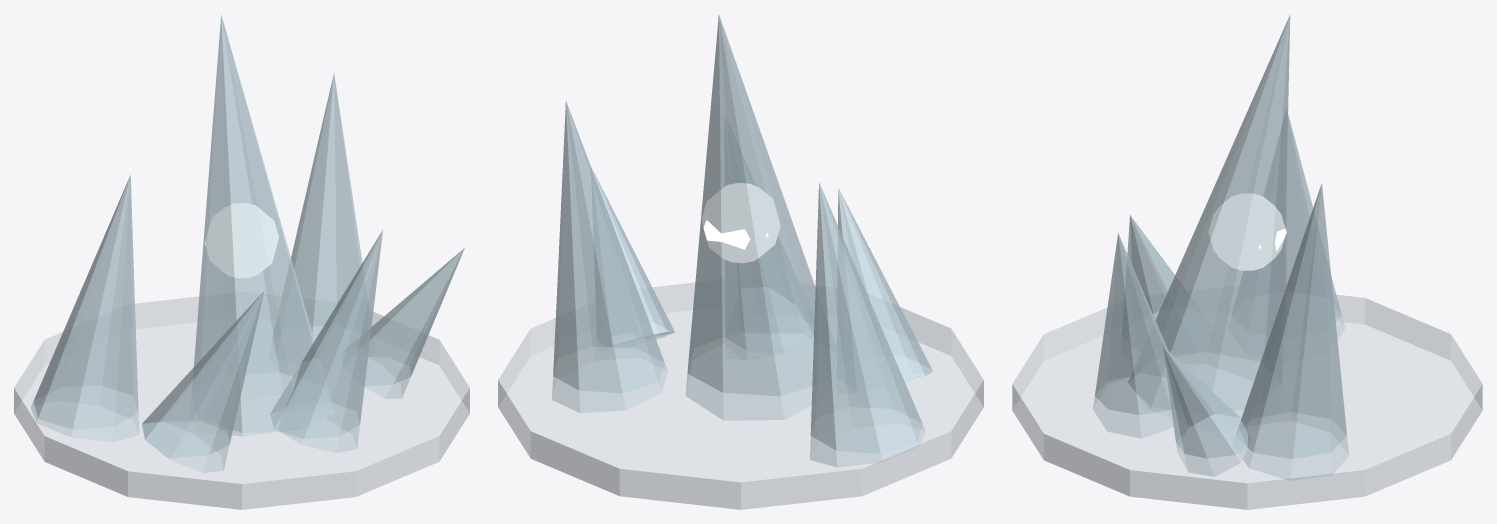
File: freeze.glb
The picture shows the model from 3 angles, left to right: view 1: azimuth 30°, elevation 25°; view 2: azimuth 150°, elevation 25°; view 3: azimuth 270°, elevation 25°; orthographic projection. The views are drawn at different scales.
Visible parts, largest first — view 1: freeze; view 2: freeze; view 3: freeze.
Part boxes in pixels (box(x1,y1,x2,y2)): freeze: box(14, 15, 469, 509); freeze: box(498, 15, 983, 509); freeze: box(1012, 14, 1482, 509).
Bounding box in the file's own units: 2.4 × 2.24 × 2.4.
